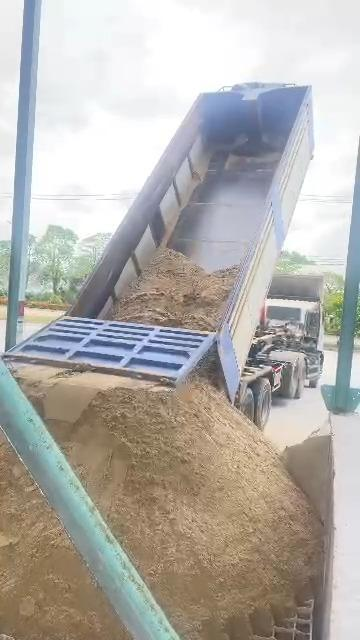sand: (48, 348, 321, 639), (2, 442, 126, 639), (111, 249, 237, 330), (16, 363, 154, 424), (282, 434, 330, 522)
